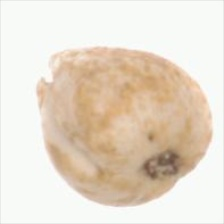L3: (36, 52, 61, 88)
L4: (35, 46, 213, 207)
